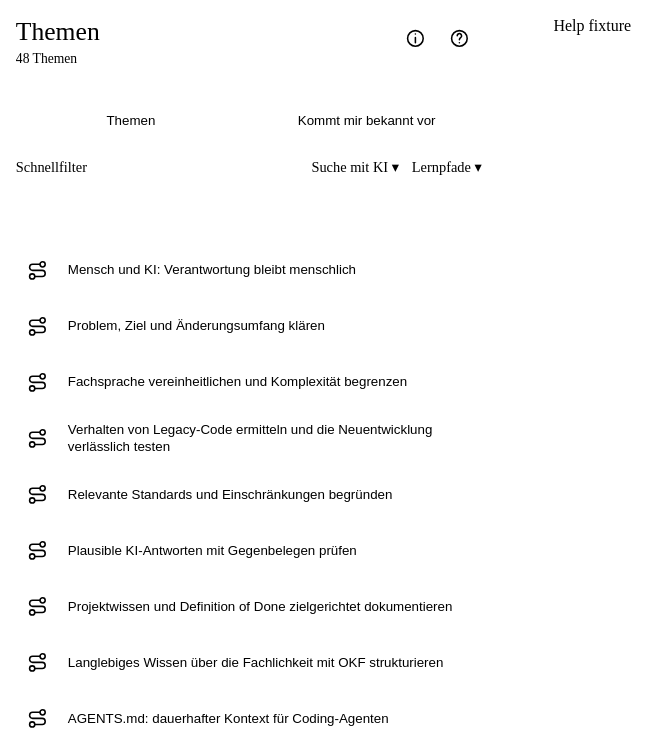
Test: TopicBrowser › renders supplied supplementary content without owning its implementation
Expected: the text named "Injected help" is shown, [553,17,631,34]
Click the button named "Impressum öffnen": x=416, y=39 [394,17,438,61]
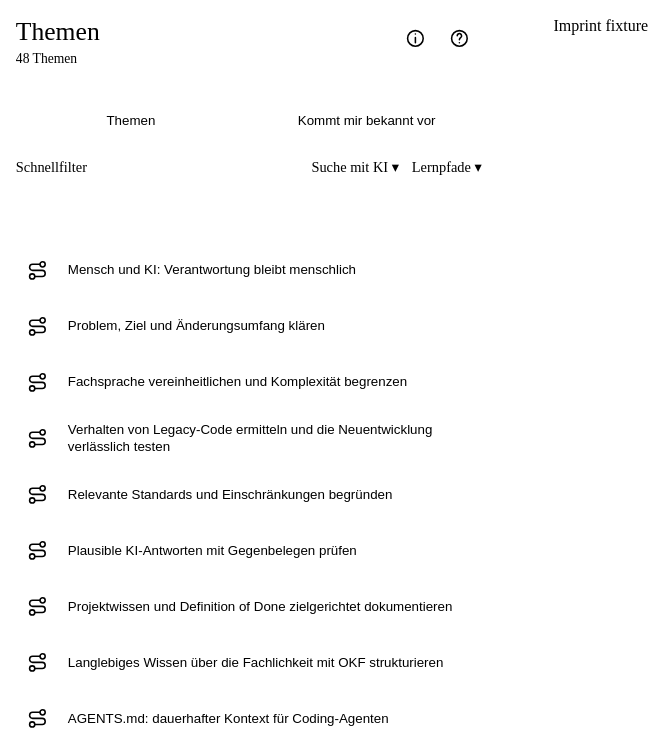
Now the text named "Injected imprint" is shown, box [553,17,648,34]
